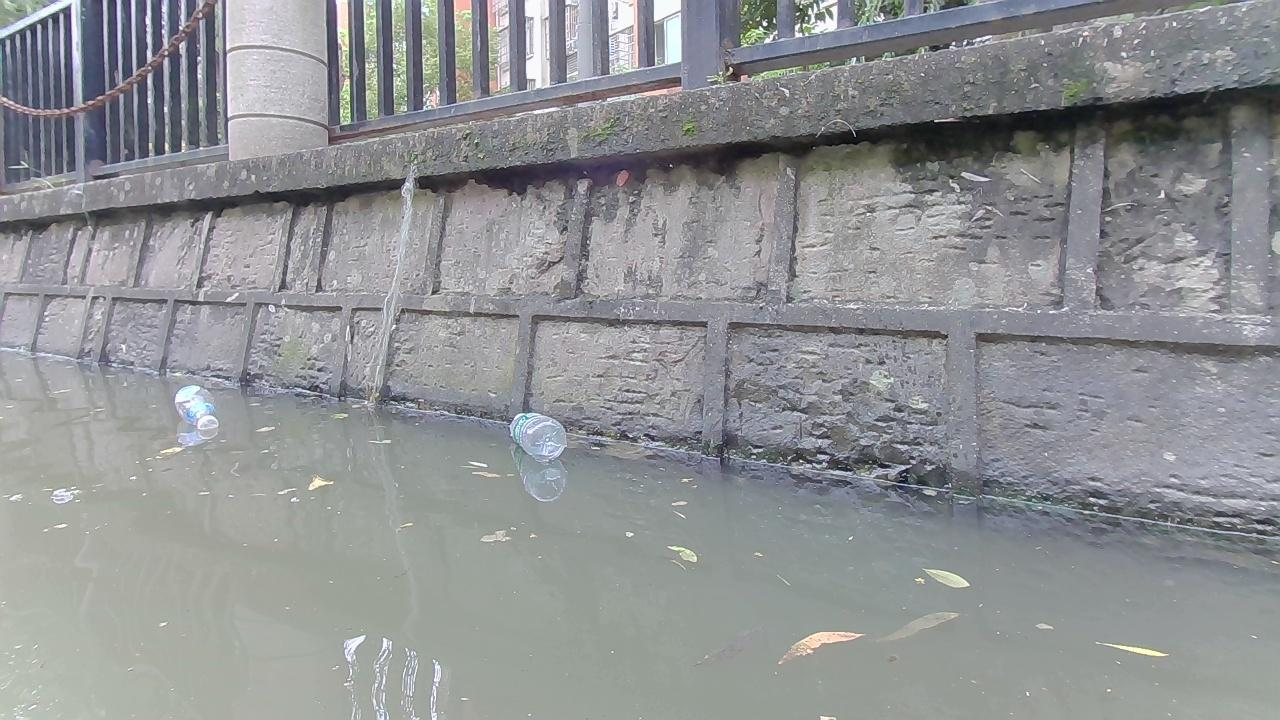bottle: (508, 412, 567, 461), (174, 384, 216, 429)
